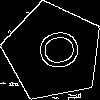O: (28, 27, 82, 75)
